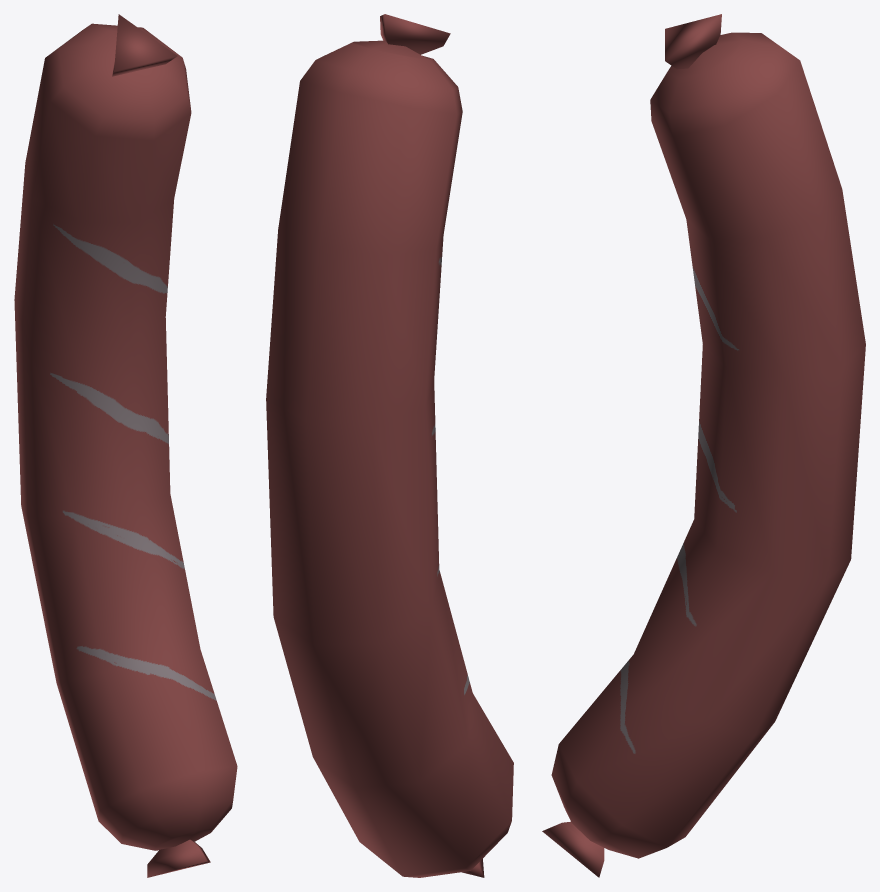
File: Obj_Sausage01_Isolated.fbx
3 views of the same model, side by side, from view 1: azimuth 30°, elevation 25°; view 2: azimuth 150°, elevation 25°; view 3: azimuth 270°, elevation 25° (orthographic). The views are drawn at different scales.
Parts seen in each view (by area): view 1: Sausage, Cylinder.001; view 2: Sausage, Cylinder.001; view 3: Sausage, Cylinder.001.
Boxes of the visible parts, box(x1,y1,x2,y2) form: Sausage: box(14, 23, 237, 850); Cylinder.001: box(112, 14, 210, 877); Sausage: box(266, 40, 513, 877); Cylinder.001: box(380, 14, 484, 877); Sausage: box(551, 32, 865, 858); Cylinder.001: box(542, 14, 721, 877).
Bounding box in the file's own units: 62.78 × 360 × 125.
Materials: 1 (1 with a texture image).
